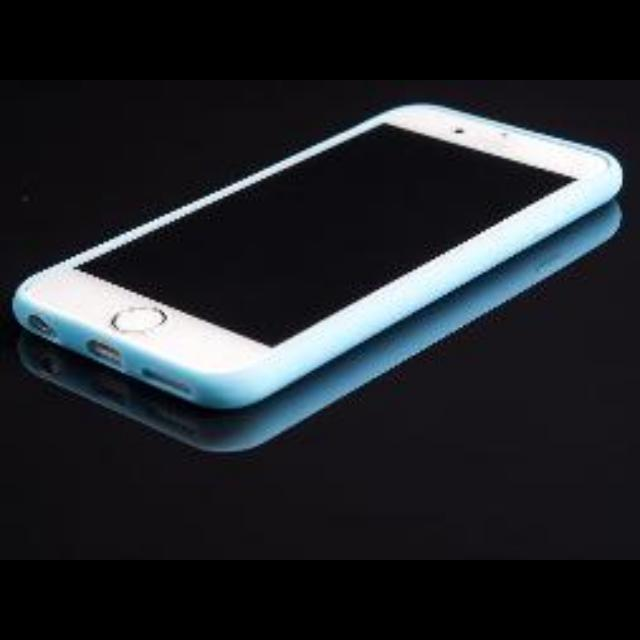Phone: (13, 103, 625, 411)
